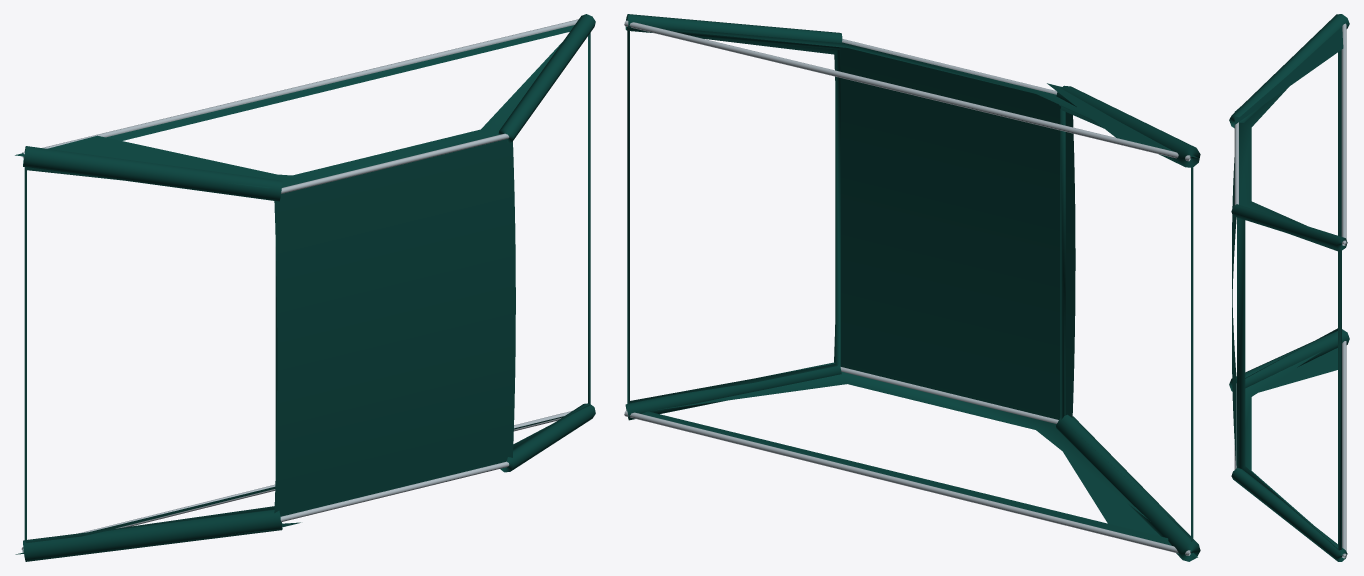
Rendered from Car70Roof0.obj.
The picture shows the model from 3 angles, left to right: view 1: azimuth 30°, elevation 25°; view 2: azimuth 150°, elevation 25°; view 3: azimuth 270°, elevation 25°; orthographic projection. The views are drawn at different scales.
Parts seen in each view (by area): view 1: Car70Roof0; view 2: Car70Roof0; view 3: Car70Roof0.
Part boxes in pixels (bbox=[...]): Car70Roof0: bbox=[15, 14, 595, 561]; Car70Roof0: bbox=[624, 14, 1200, 561]; Car70Roof0: bbox=[1229, 14, 1349, 561].
Bounding box in the file's own units: 254 × 174 × 57.42.
